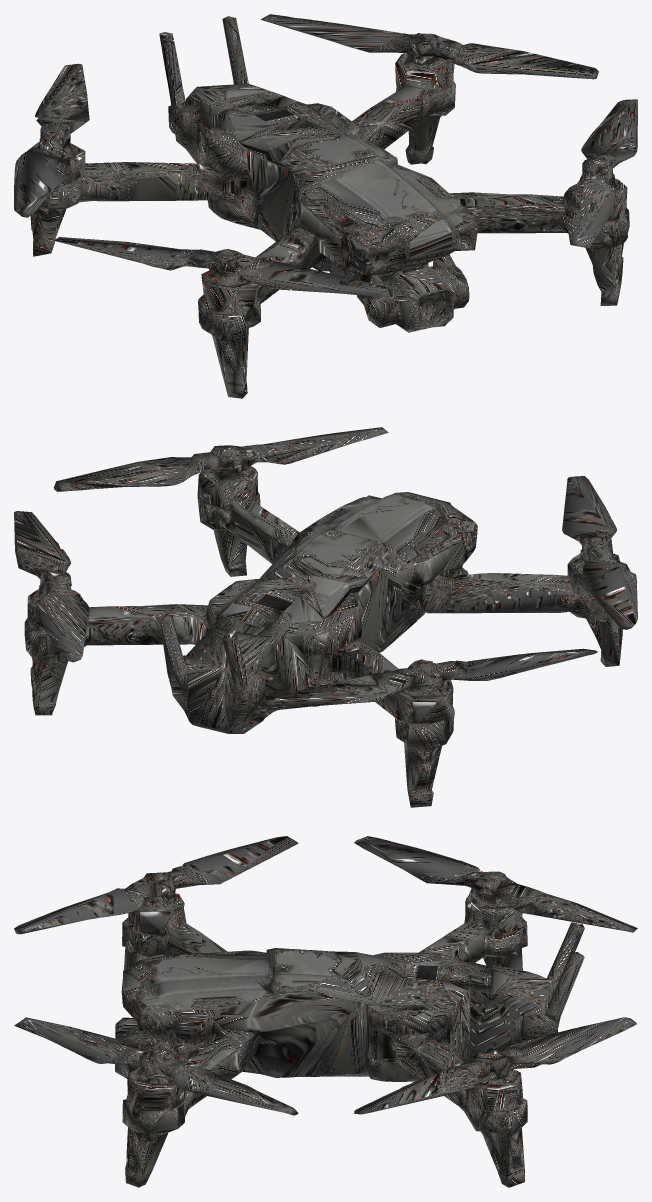
File: weapon_drone.glb
3 renders of one model, top to bottom at view 1: azimuth 30°, elevation 25°; view 2: azimuth 150°, elevation 25°; view 3: azimuth 270°, elevation 25°, orthographic. The views are drawn at different scales.
Parts seen in each view (by area): view 1: node_0; view 2: node_0; view 3: node_0.
Boxes of the visible parts, x1,y1,x2,y2 form: node_0: (14,14,637,398); node_0: (14,427,637,807); node_0: (14,836,637,1187).
Size of the model in its own units: 1.17 by 0.3071 by 1.11.
Materials: 1 (1 with a texture image).
